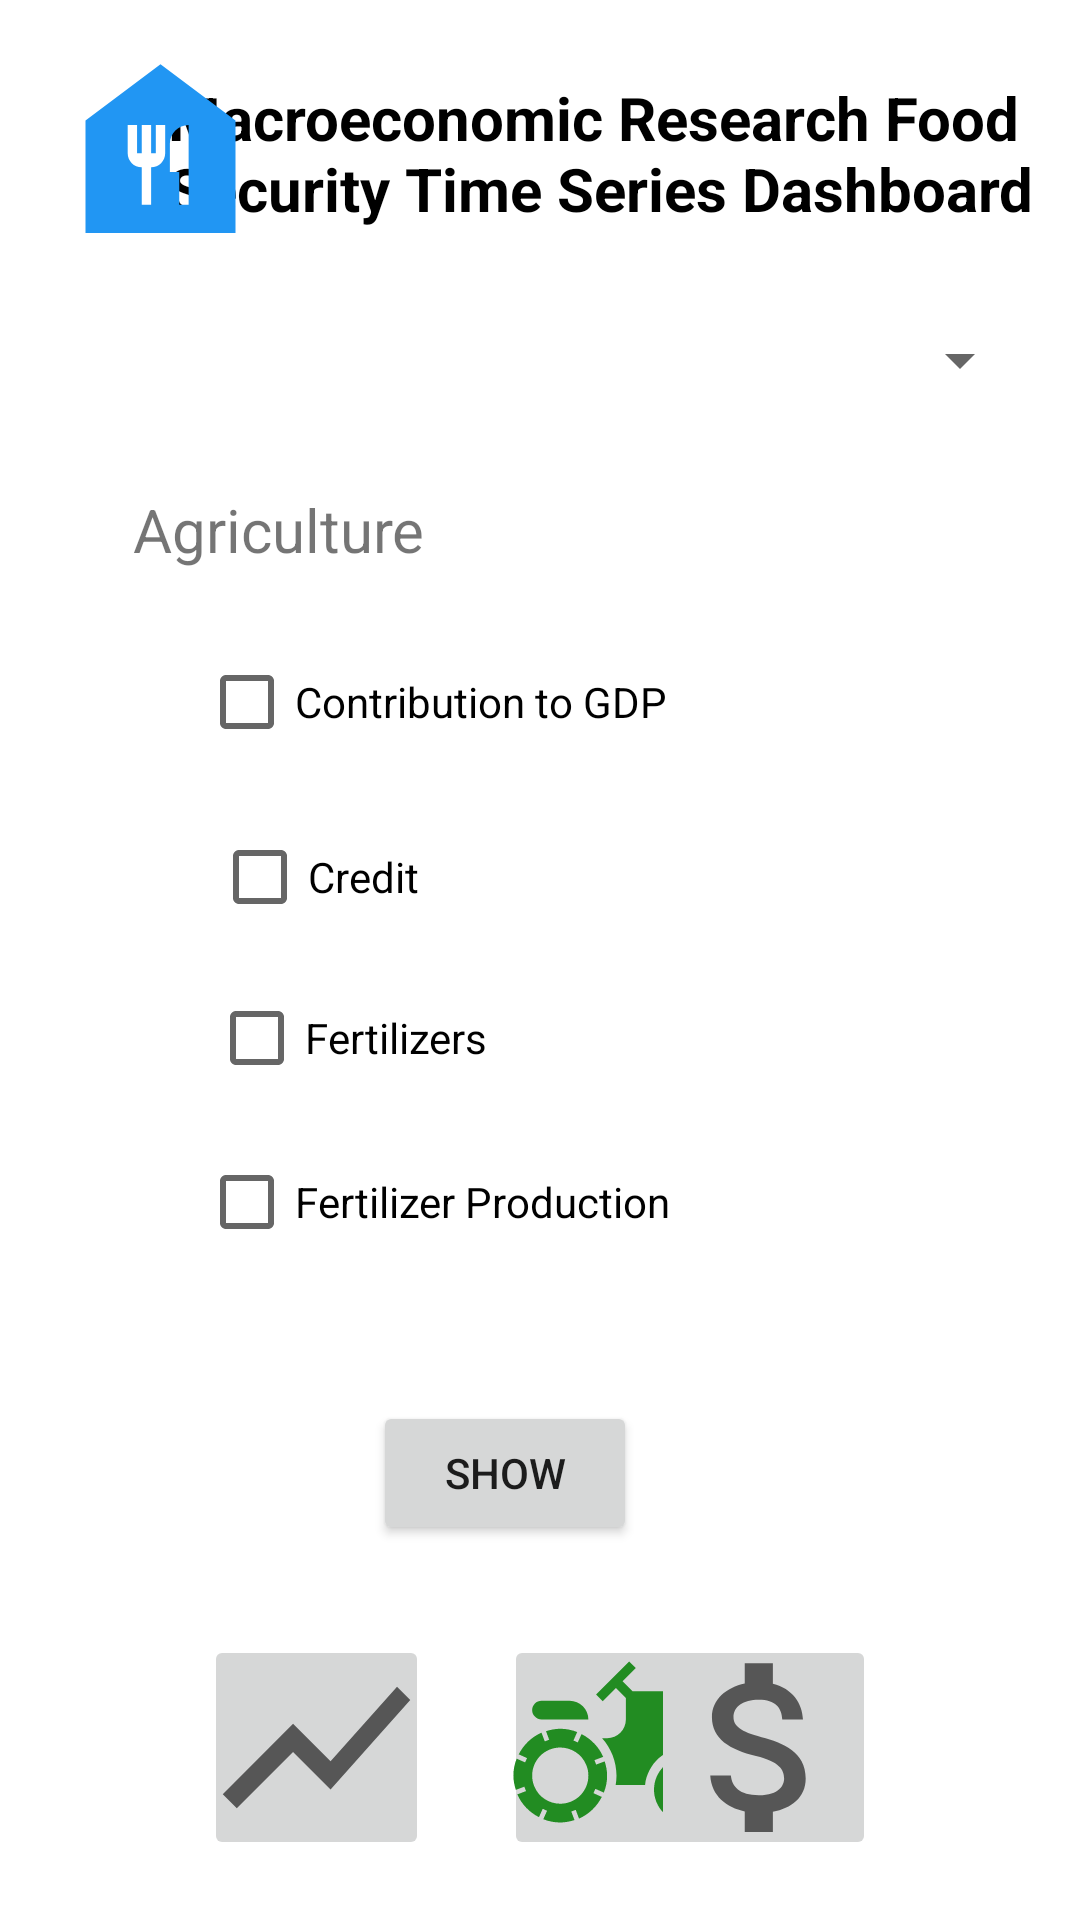

Icon bounding boxes for this 1080*1920 phone screenshot, format (x1, y1, x2, y2):
agriculture select: (513, 1653, 729, 1842)
attach money unselect: (651, 1653, 864, 1842)
